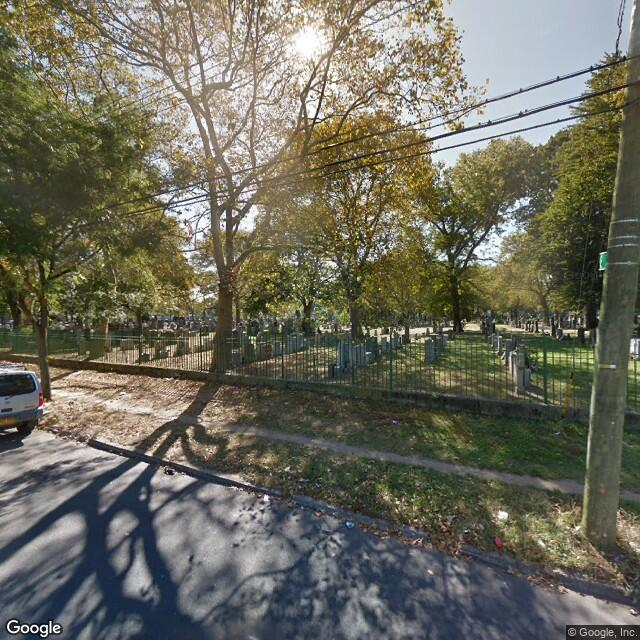litter: (342, 514, 361, 533), (492, 507, 514, 523), (387, 415, 406, 428), (548, 427, 567, 439)
